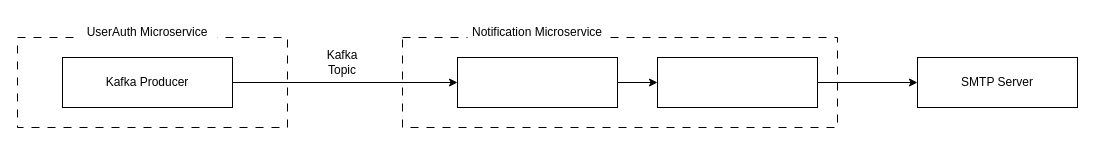
Some shapes in this 1095 by 145 pixel diagram are drawn without their labels. The shapes that lost their labels are listed below. From the top down, each one's centre as x and y in pixels, then its label:
point 537,82: Kafka Consumer
point 737,82: EmailUtil
